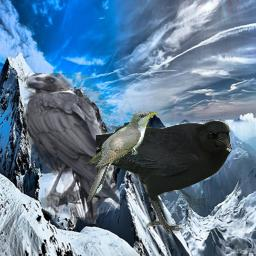Crow: (96, 120, 232, 234), (24, 73, 120, 224)
Cuckoo: (87, 111, 157, 202)
